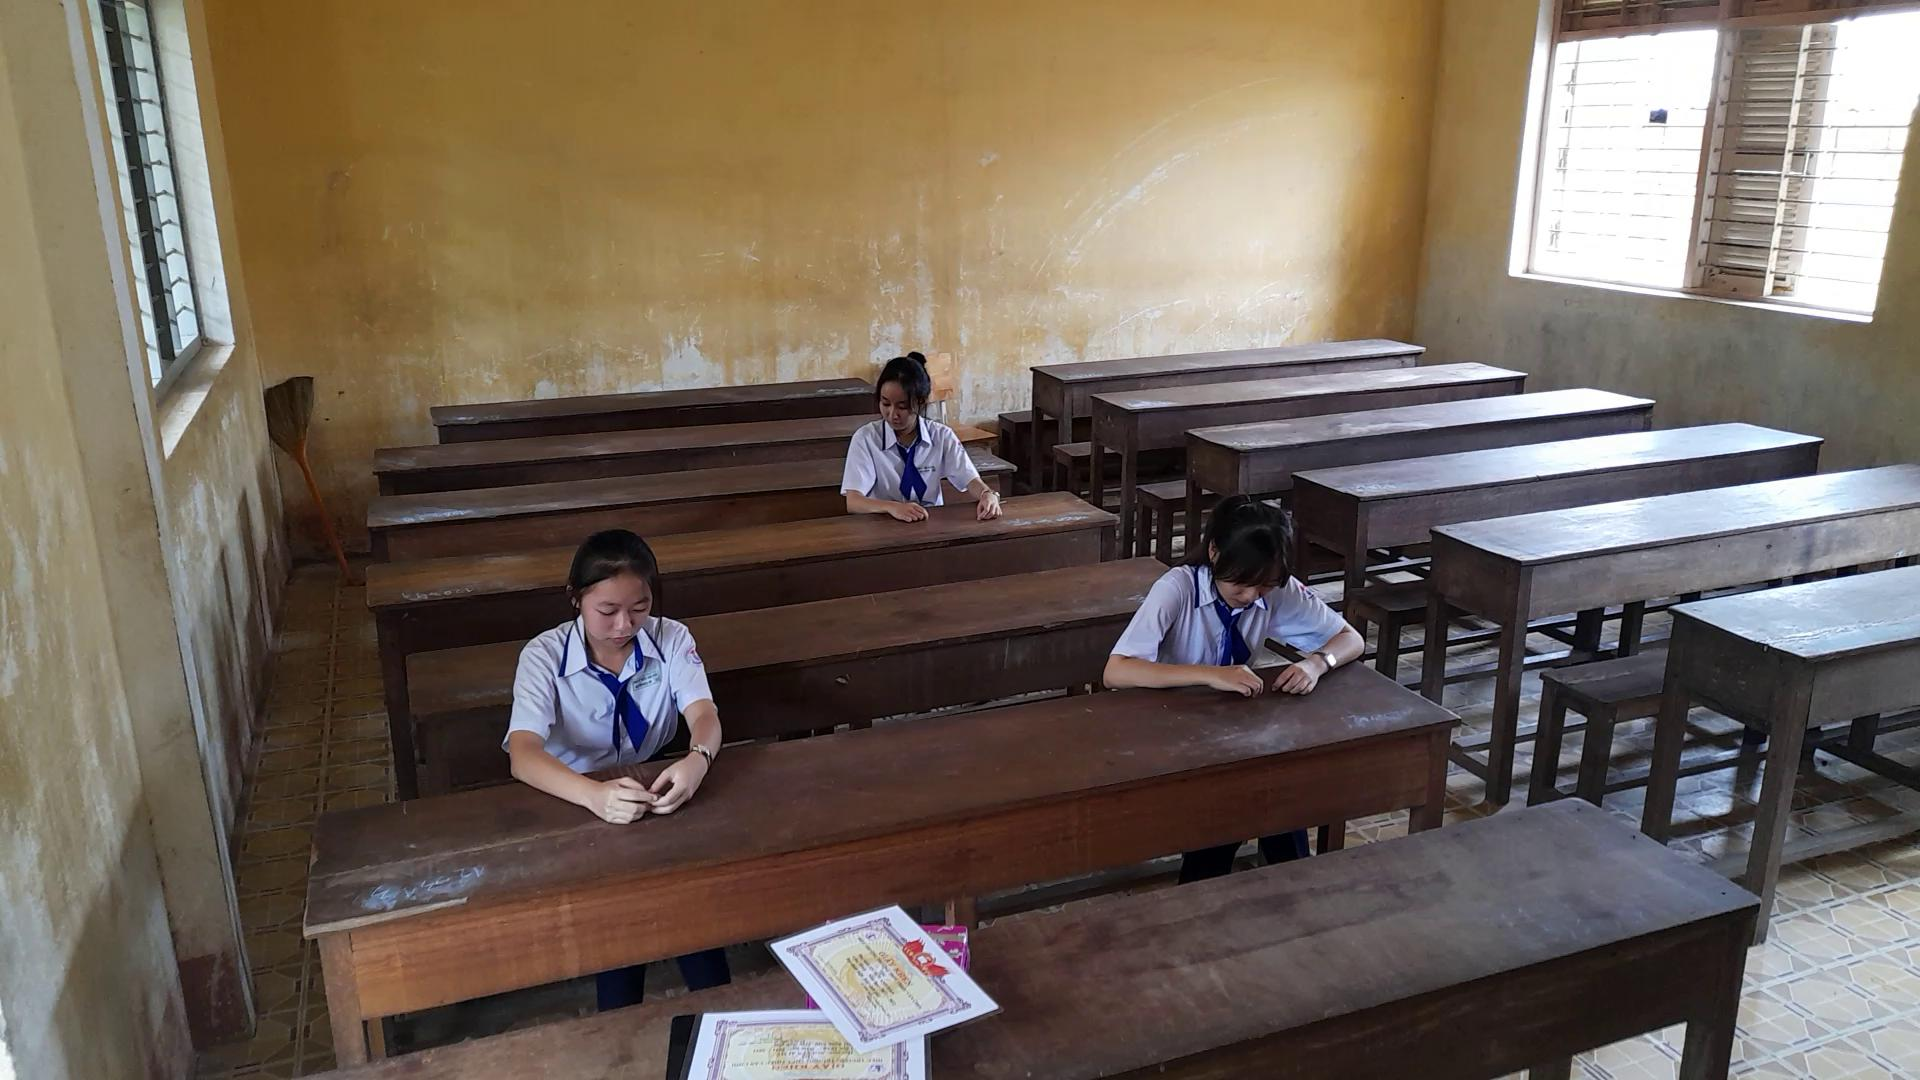Normal: (498, 529, 761, 831), (1091, 488, 1391, 720), (825, 342, 1015, 549)
